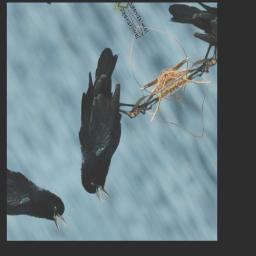Crow: (32, 42, 180, 209)
